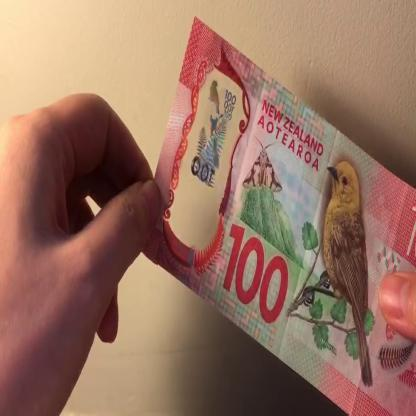100B: (188, 74, 238, 197)
